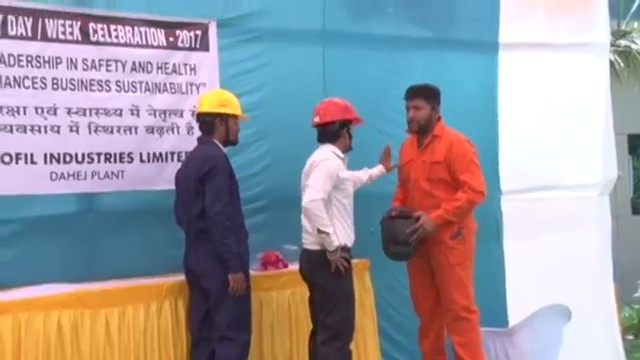helmet: (193, 87, 250, 121), (310, 94, 364, 126)
helmet_off: (403, 82, 441, 135)
helmet_on: (196, 90, 252, 150), (309, 95, 363, 156)
person: (297, 95, 395, 360), (395, 83, 487, 360), (172, 86, 255, 360)
